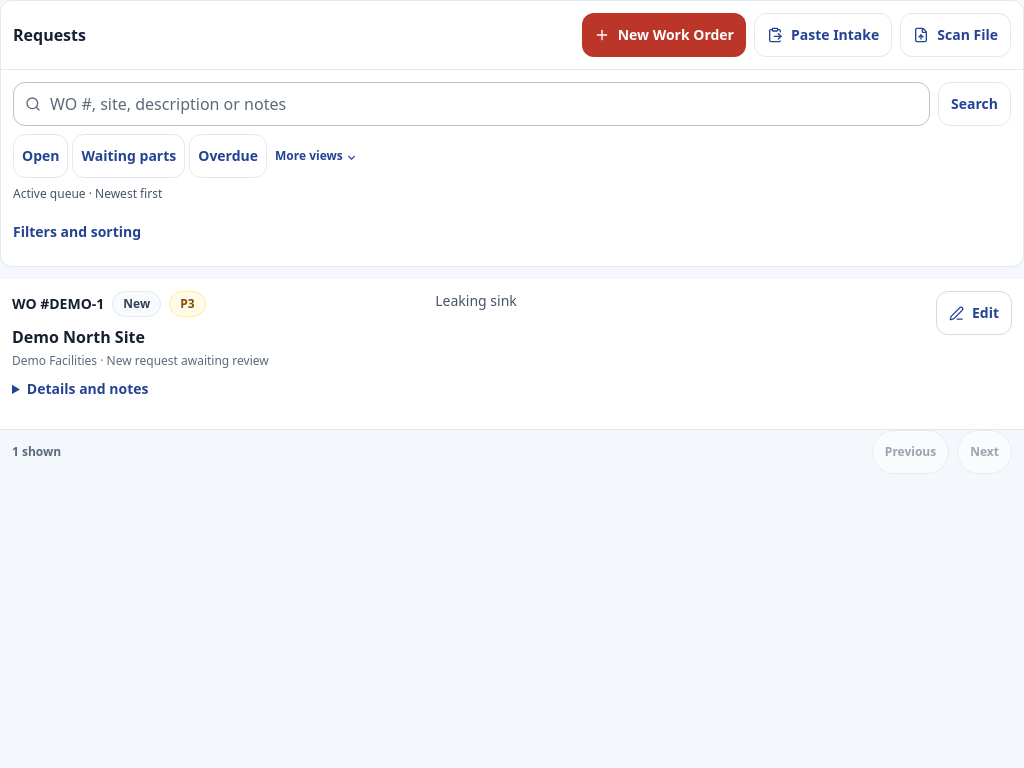
Scenario: work-order intake and editing › still starts ordinary manual intake with the current reported time
The image size is (1024, 768).
Step 1. Click the button "New Work Order" → [664, 35], box [582, 13, 746, 57]
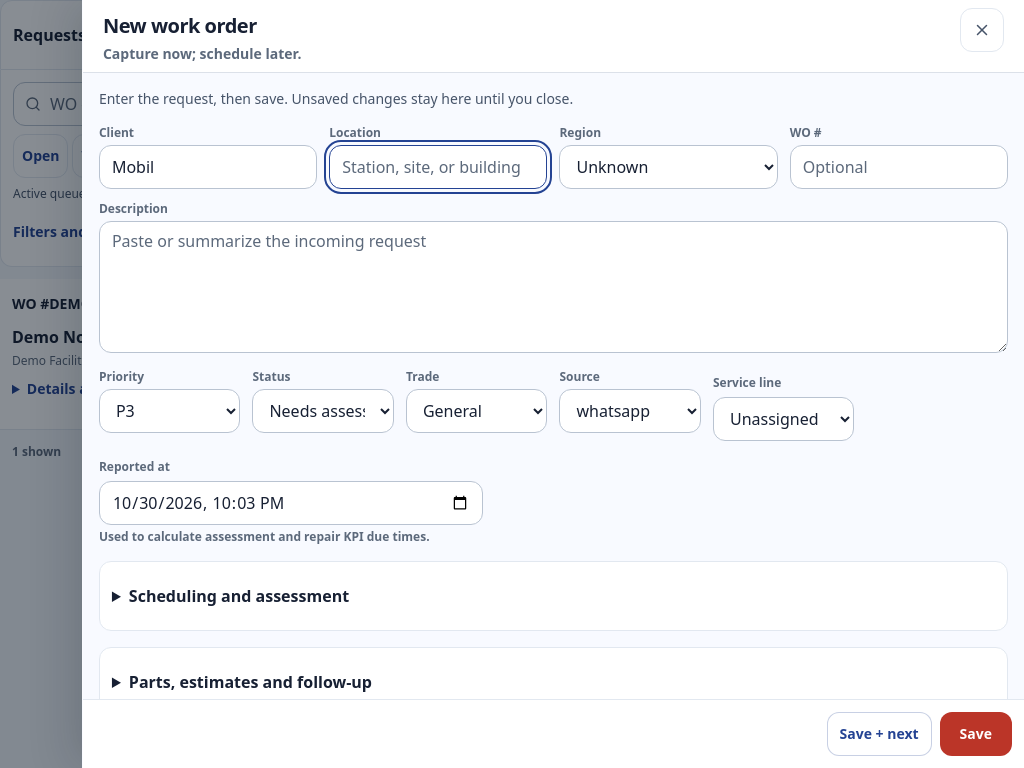
Now the field labelled "Reported at" is not empty, box [99, 481, 483, 525]
